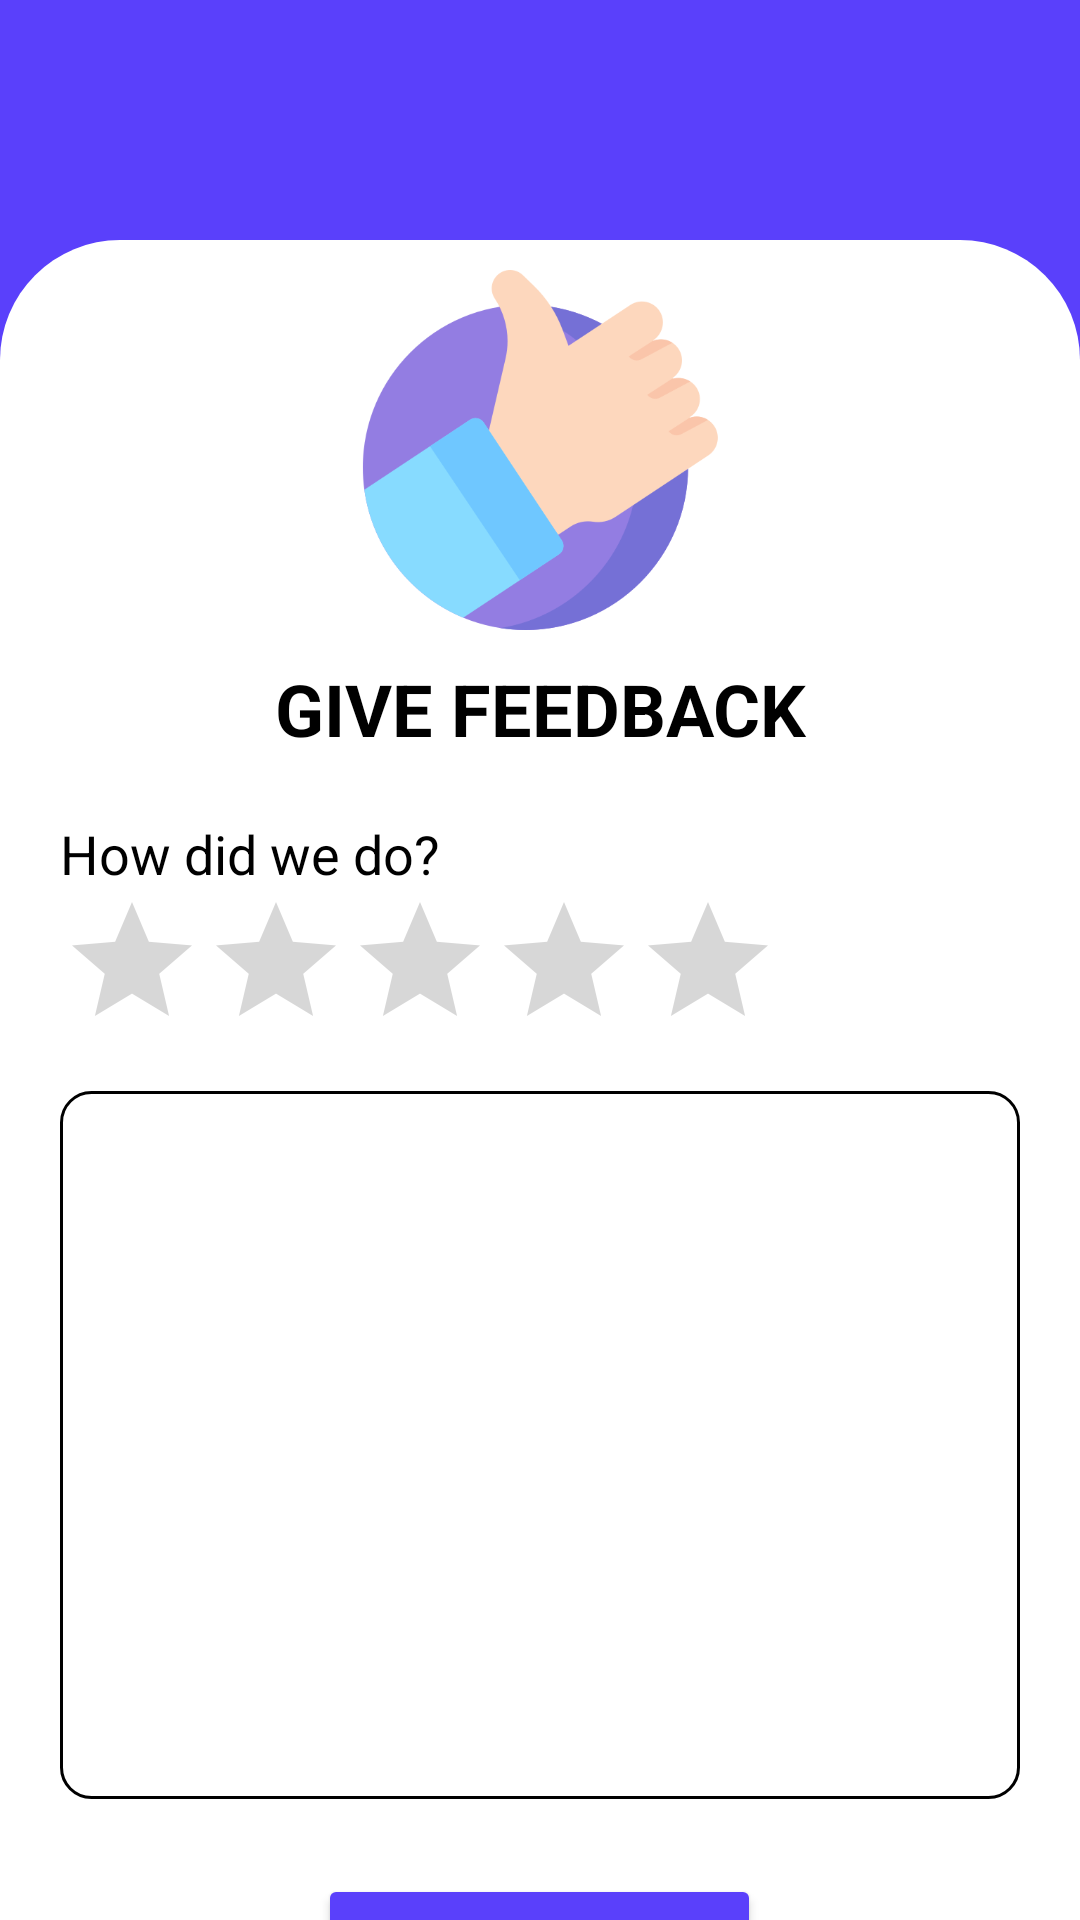

Icons on this 1080*1920 Android screen, each with its box as (x1, y1, x2, y2):
thumb: (363, 270, 718, 630)
